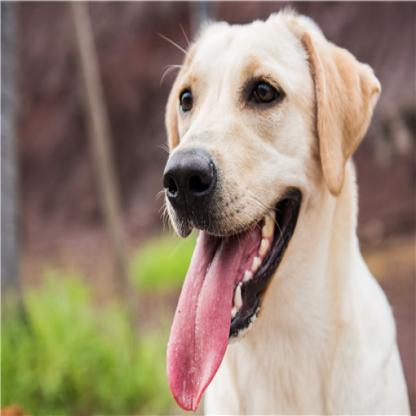Labarador Retriever: (157, 13, 412, 416)
